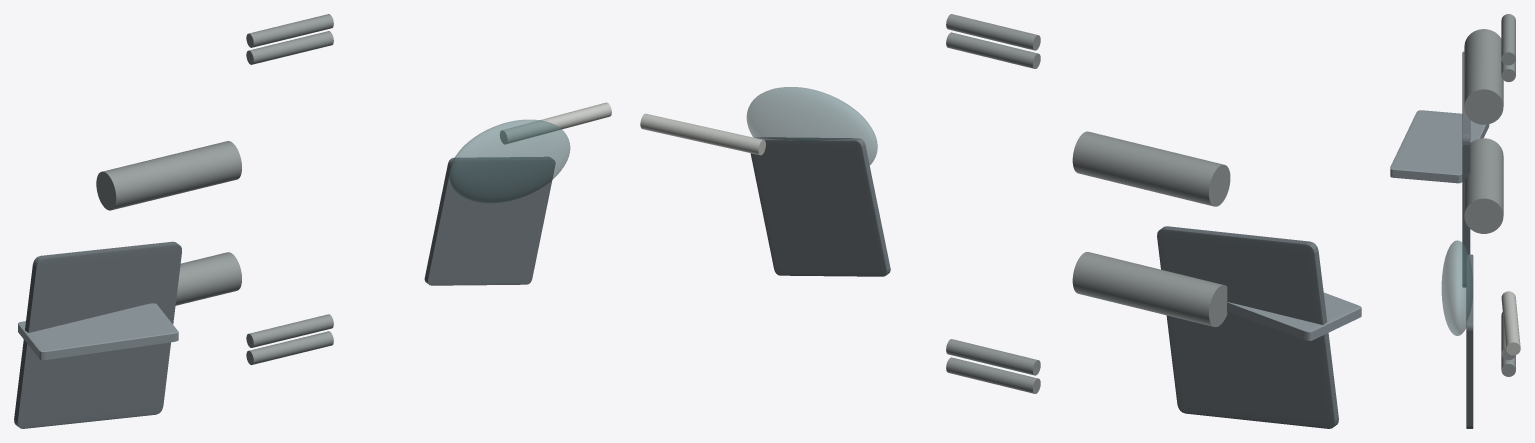
The model's file is s-u25-specter-multirole-aircraft-lod2.glb.
3 renders of one model, left to right at view 1: azimuth 30°, elevation 25°; view 2: azimuth 150°, elevation 25°; view 3: azimuth 270°, elevation 25°, orthographic. The views are drawn at different scales.
Visible parts, largest first — view 1: combat_tailplane_-1, canard_-1, combat_canopy, combat_engine_1, combat_fin_-1, combat_engine_0, combat_gun_barrel_0, combat_-1_tube_1, combat_-1_tube_2, combat_1_tube_1, combat_1_tube_2; view 2: combat_tailplane_-1, canard_-1, combat_engine_1, combat_engine_0, combat_canopy, combat_fin_-1, combat_gun_barrel_0, combat_-1_tube_1, combat_1_tube_1, combat_1_tube_2, combat_-1_tube_2; view 3: combat_fin_-1, combat_engine_1, combat_engine_0, combat_canopy, canard_-1, combat_tailplane_-1, combat_gun_barrel_0, combat_1_tube_2, combat_1_tube_1, combat_-1_tube_1, combat_-1_tube_2.
Boxes of the visible parts, left/top/right/bottom form: combat_tailplane_-1: left=14, top=241, right=181, bottom=428; canard_-1: left=424, top=157, right=555, bottom=285; combat_canopy: left=449, top=119, right=570, bottom=203; combat_engine_1: left=96, top=141, right=241, bottom=210; combat_fin_-1: left=18, top=303, right=178, bottom=360; combat_engine_0: left=175, top=252, right=241, bottom=305; combat_gun_barrel_0: left=500, top=102, right=611, bottom=144; combat_-1_tube_1: left=246, top=331, right=333, bottom=364; combat_-1_tube_2: left=246, top=314, right=333, bottom=347; combat_1_tube_1: left=246, top=31, right=333, bottom=64; combat_1_tube_2: left=246, top=14, right=333, bottom=47; combat_tailplane_-1: left=1157, top=226, right=1338, bottom=428; canard_-1: left=750, top=137, right=890, bottom=276; combat_engine_1: left=1072, top=131, right=1230, bottom=206; combat_engine_0: left=1072, top=252, right=1227, bottom=327; combat_canopy: left=746, top=87, right=877, bottom=164; combat_fin_-1: left=1227, top=292, right=1361, bottom=340; combat_gun_barrel_0: left=640, top=113, right=765, bottom=155; combat_-1_tube_1: left=946, top=357, right=1040, bottom=393; combat_1_tube_1: left=946, top=32, right=1040, bottom=68; combat_1_tube_2: left=946, top=14, right=1040, bottom=50; combat_-1_tube_2: left=946, top=339, right=1040, bottom=375; combat_fin_-1: left=1390, top=110, right=1489, bottom=183; combat_engine_1: left=1464, top=29, right=1503, bottom=124; combat_engine_0: left=1464, top=138, right=1503, bottom=233; combat_canopy: left=1441, top=240, right=1473, bottom=335; canard_-1: left=1466, top=254, right=1473, bottom=428; combat_tailplane_-1: left=1462, top=51, right=1470, bottom=287; combat_gun_barrel_0: left=1501, top=291, right=1520, bottom=355; combat_1_tube_2: left=1501, top=14, right=1515, bottom=65; combat_1_tube_1: left=1501, top=59, right=1515, bottom=82; combat_-1_tube_1: left=1501, top=354, right=1515, bottom=376; combat_-1_tube_2: left=1501, top=312, right=1515, bottom=360.
Size of what is drawn, in the model's own units: 13.76 by 7.14 by 2.57.
